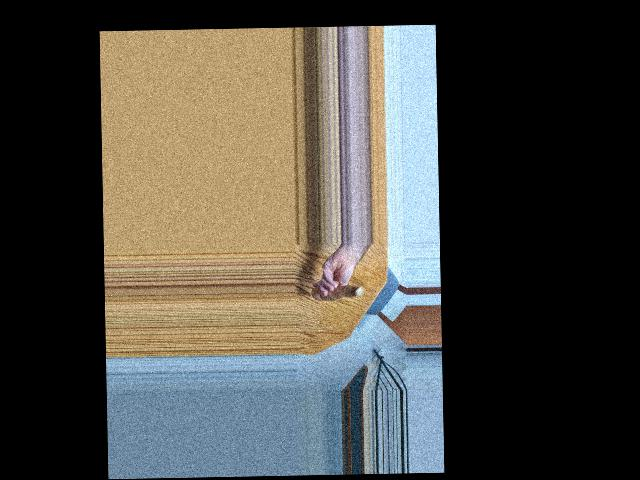sweet_potato: (313, 280, 364, 301)
